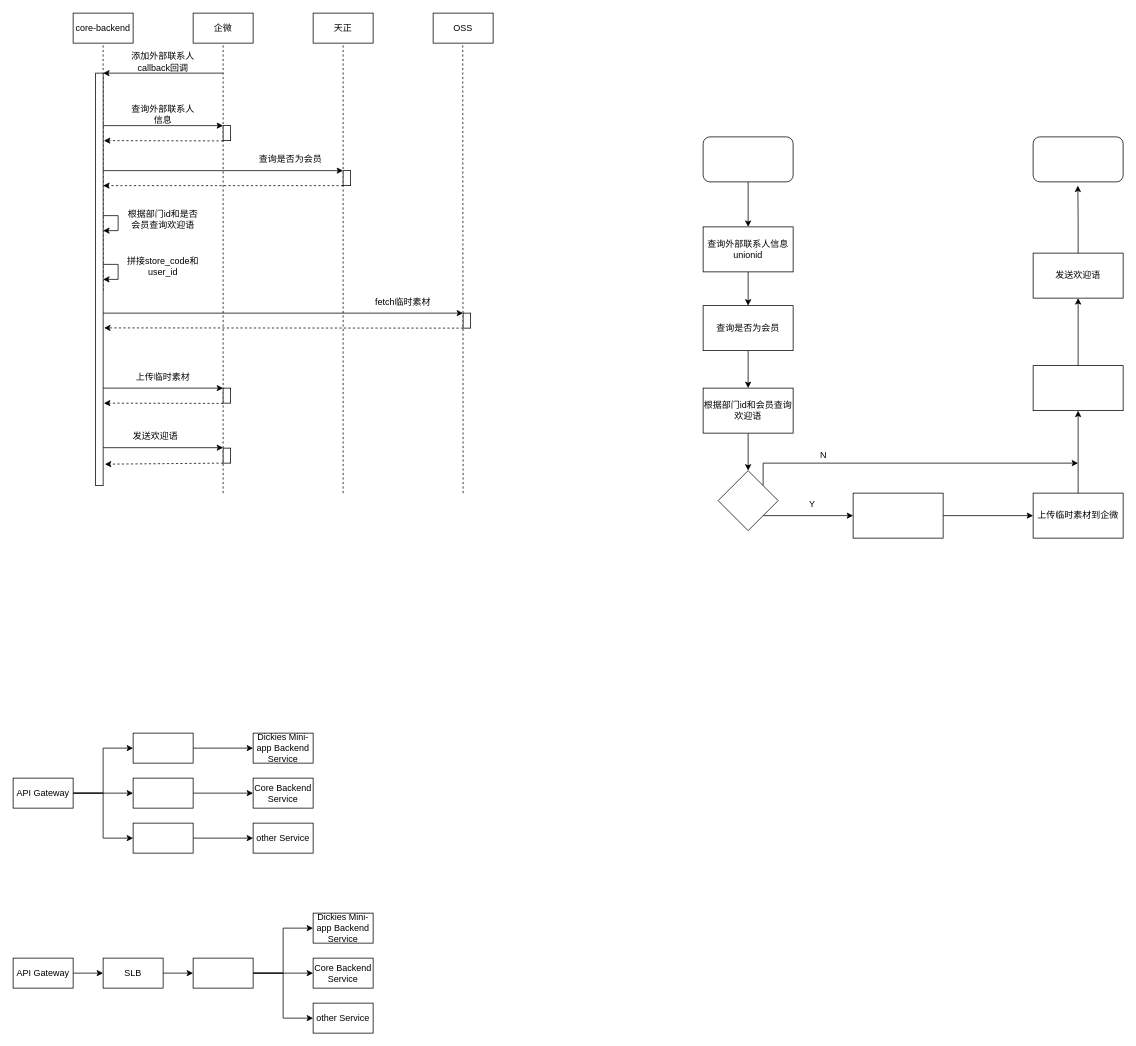
This 1136x1046 diagram has some shape labels left out. The shapes that lost their labels are listed below. From the top down, each one's centre as x and y in pixels, then its label:
At (747,159): "接收到企微添加外部联系人回调".
At (1077,159): "结束".
At (1077,388): "拼接storeCode和userId".
At (747,500): "是否包含临时素材".
At (897,515): "从oss获取临时素材".
At (162,747): "SLB1".
At (162,792): "SLB2".
At (162,837): "SLB3".
At (222,972): "Ingress Controller".
